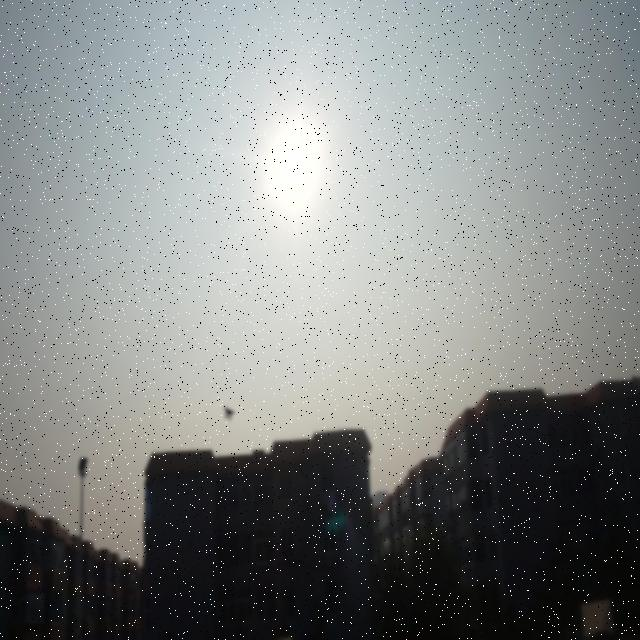UAV: (222, 405, 234, 421)
